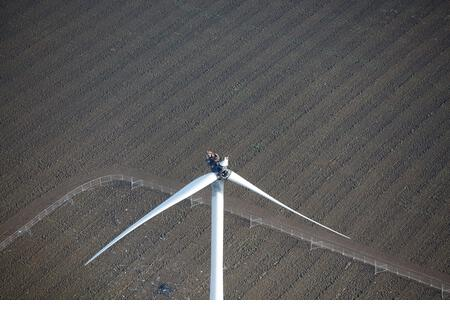faulty: (108, 148, 345, 243)
